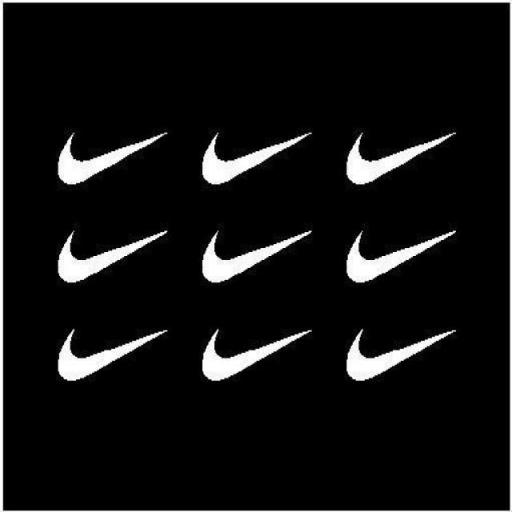Nike: (201, 327, 315, 385)
